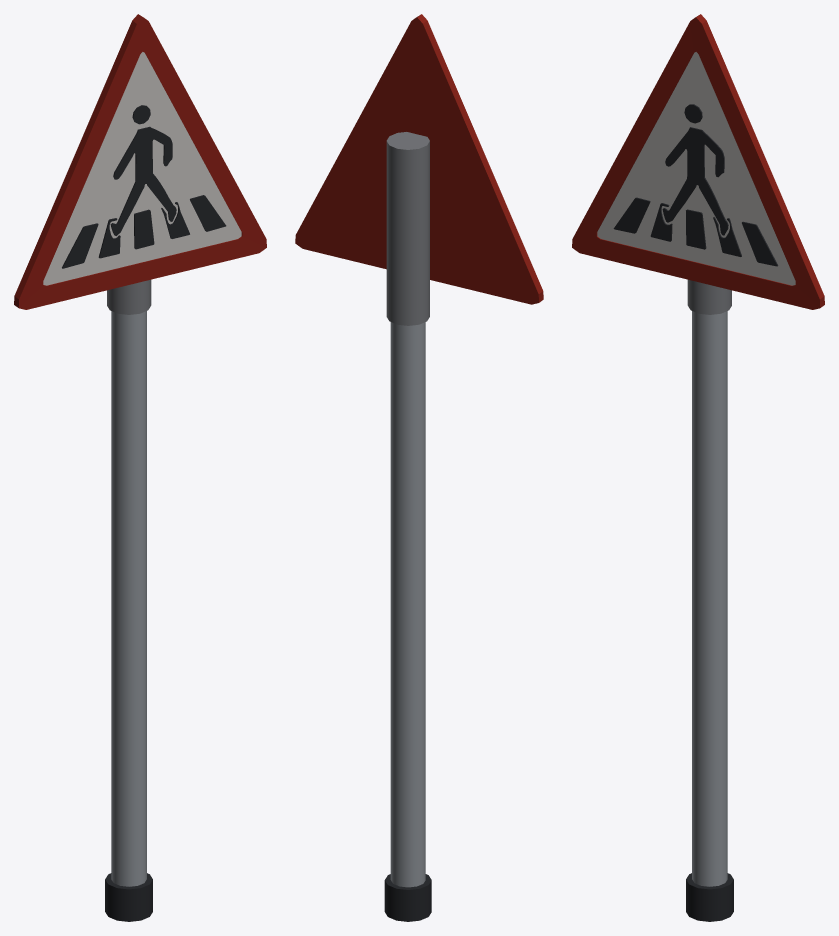
File: TrafficSign_5.fbx
3 views of the same model, side by side, from view 1: azimuth 30°, elevation 25°; view 2: azimuth 150°, elevation 25°; view 3: azimuth 330°, elevation 25° (orthographic).
Parts seen in each view (by area): view 1: TrafficSign_5; view 2: TrafficSign_5; view 3: TrafficSign_5.
Boxes of the visible parts, x1,y1,x2,y2 form: TrafficSign_5: (14,14,266,921); TrafficSign_5: (295,14,543,921); TrafficSign_5: (572,14,824,921).
Size of the model in its own units: 60.54 by 211 by 11.33.
